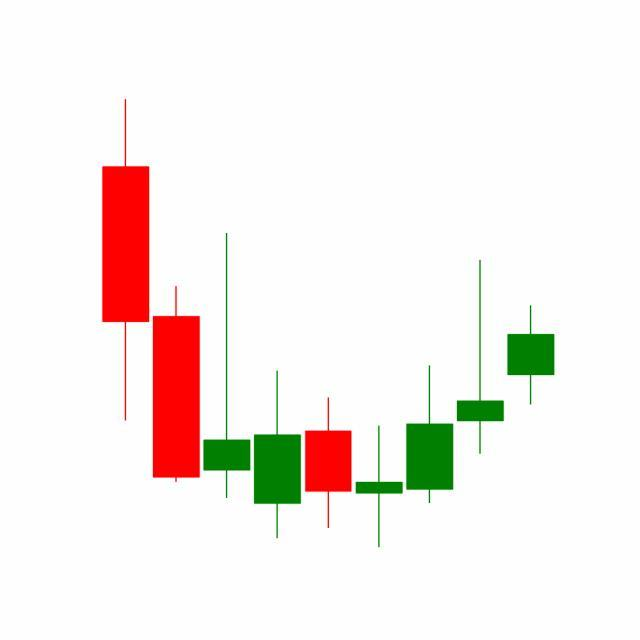Hikkake Pattern: (302, 256, 555, 548)
